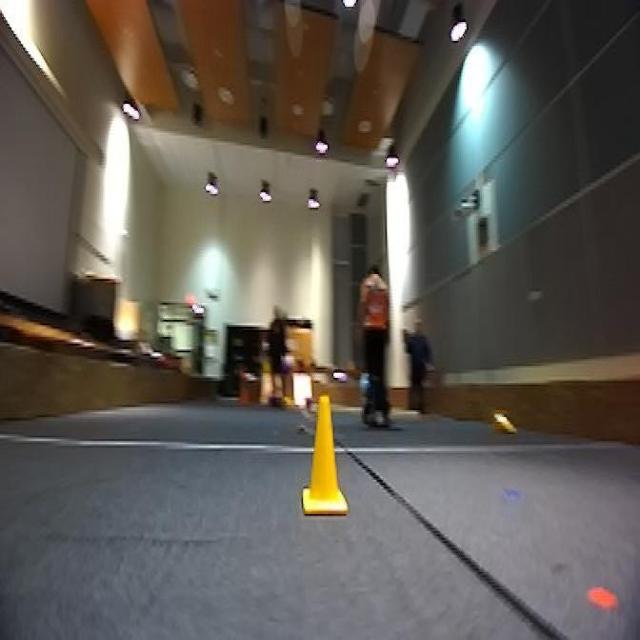frc_cone: (297, 393, 354, 523), (488, 409, 521, 439)
